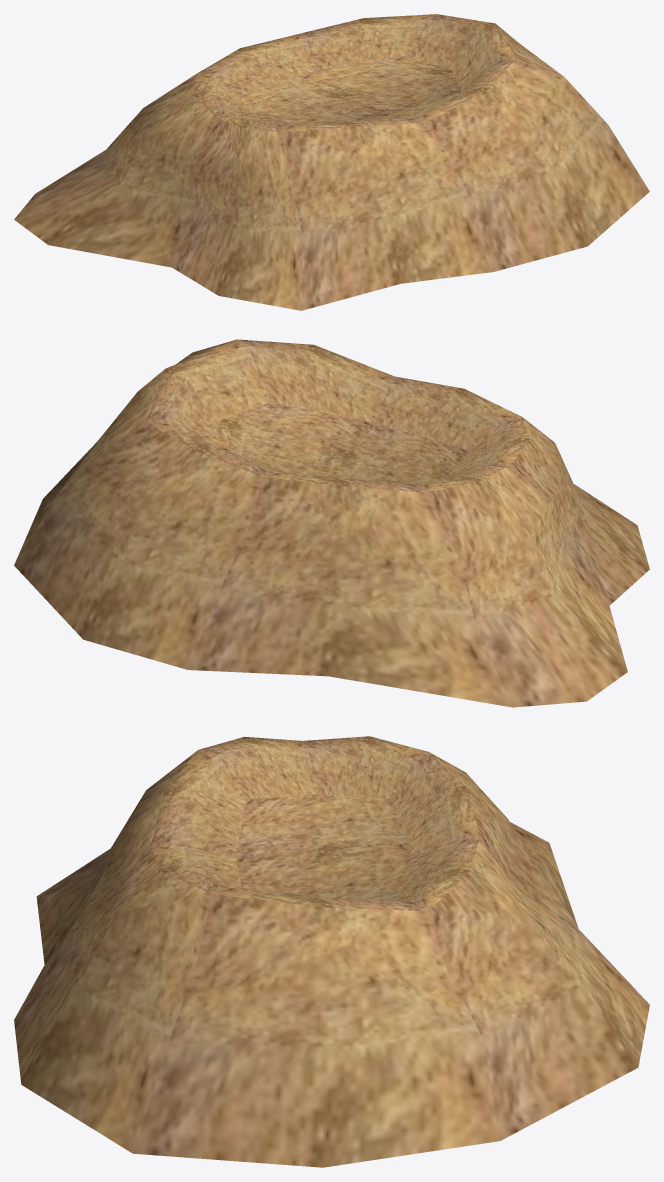
Rendered from dirt_pile.fbx.
3 views of the same model, one above another, from view 1: azimuth 30°, elevation 25°; view 2: azimuth 150°, elevation 25°; view 3: azimuth 270°, elevation 25° (orthographic). The views are drawn at different scales.
Parts seen in each view (by area): view 1: lod_high; view 2: lod_high; view 3: lod_high.
Part boxes in pixels (x1,y1,x2,y2): lod_high: (14,14,649,310); lod_high: (14,339,649,707); lod_high: (14,736,649,1167).
Size of the model in its own units: 1201 by 300 by 913.
Materials: 1 (1 with a texture image).
